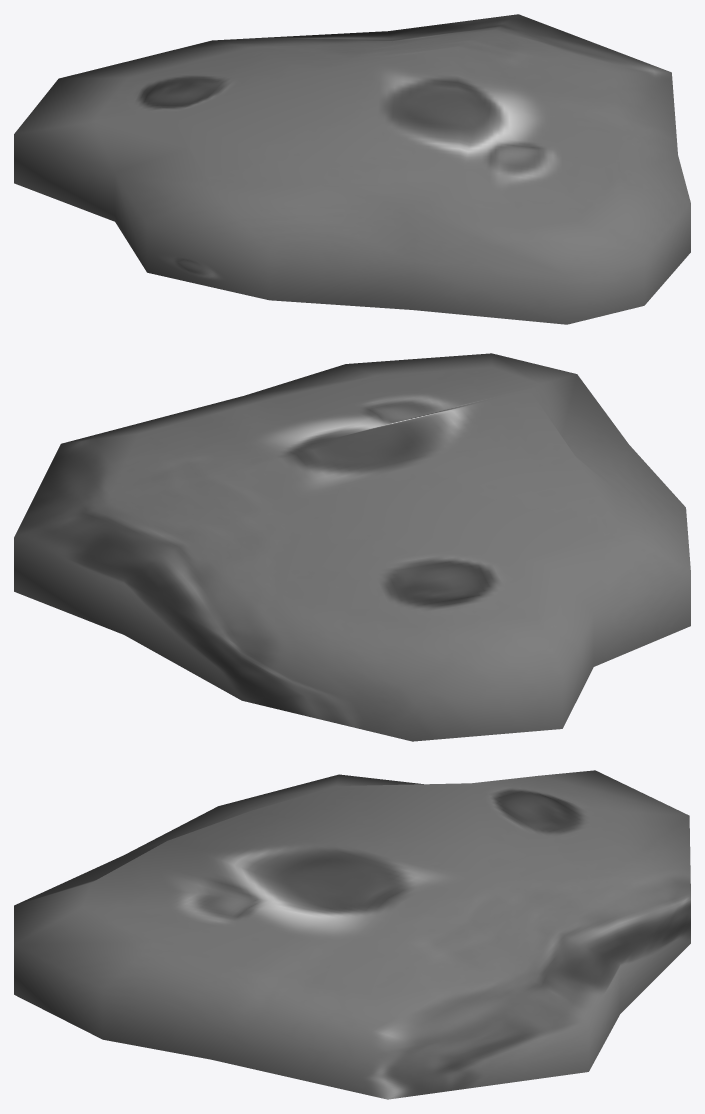
File: SM_PROP_stone_02.fbx
3 views of the same model, one above another, from view 1: azimuth 30°, elevation 25°; view 2: azimuth 150°, elevation 25°; view 3: azimuth 270°, elevation 25° (orthographic). The views are drawn at different scales.
Parts seen in each view (by area): view 1: SM_PROP_stone_02; view 2: SM_PROP_stone_02; view 3: SM_PROP_stone_02.
Boxes of the visible parts, bbox=[...] form: SM_PROP_stone_02: bbox=[14, 14, 690, 324]; SM_PROP_stone_02: bbox=[14, 353, 690, 741]; SM_PROP_stone_02: bbox=[14, 770, 690, 1099].
Bounding box in the file's own units: 109 × 18.05 × 112.
